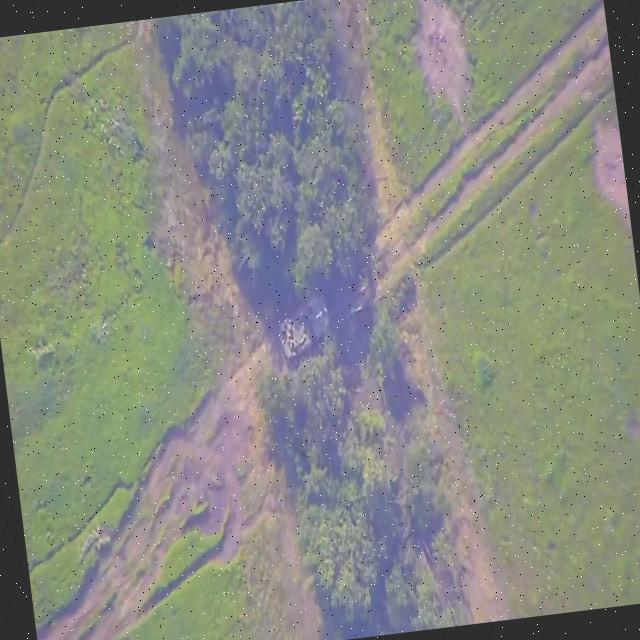AIFV: (274, 287, 339, 365)
